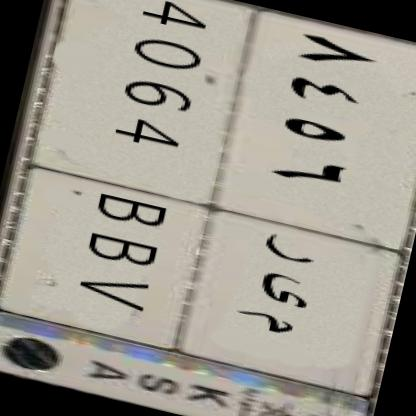english: (0, 0, 262, 352)
